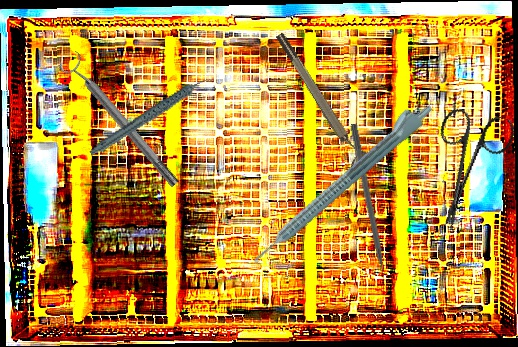Fixation Ring: (57, 49, 185, 194), (273, 27, 370, 170)
Handpiece: (241, 93, 438, 269), (79, 76, 225, 157)
Iris Scissors: (414, 102, 518, 240)
Pusher: (348, 123, 390, 292)
